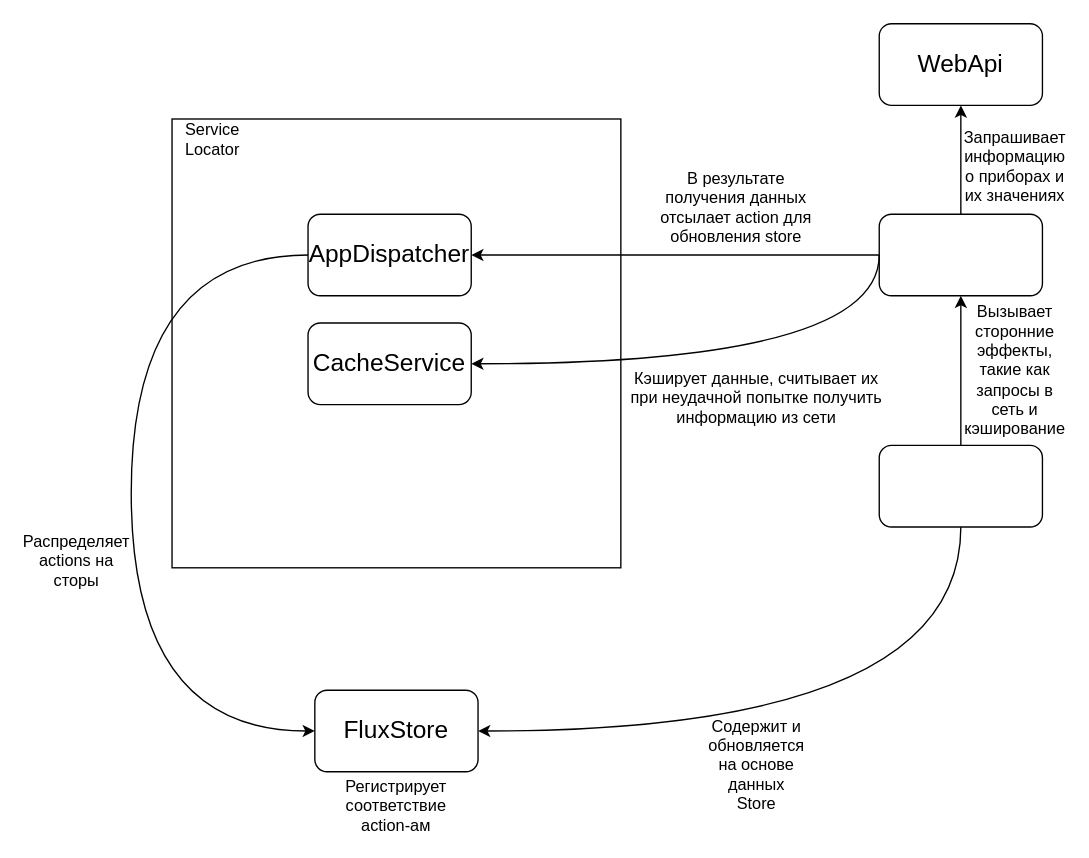
This 1089x858 diagram has some shape labels left out. The centre of each missing label's shape, as x and y in pixels:
ActionCreator: the point at 960,254
View: the point at 960,485
